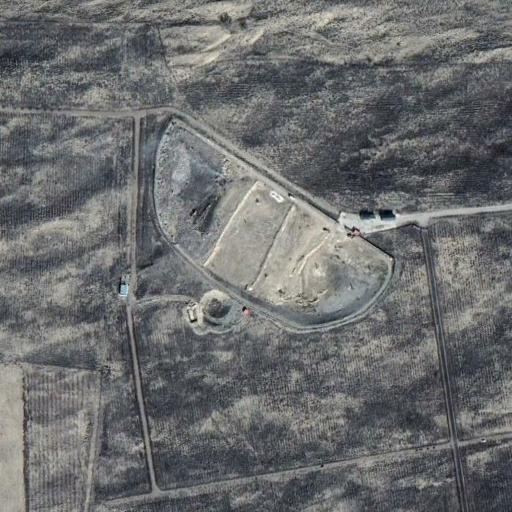lf: (154, 113, 392, 334)
